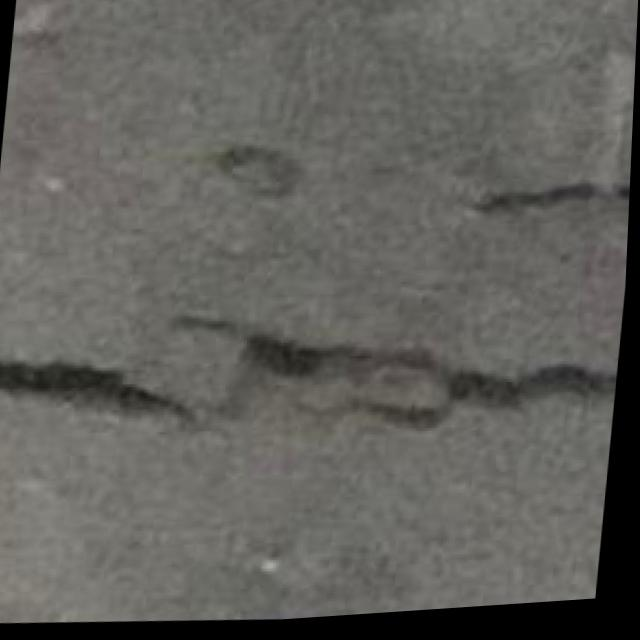Crack: (0, 274, 623, 585)
